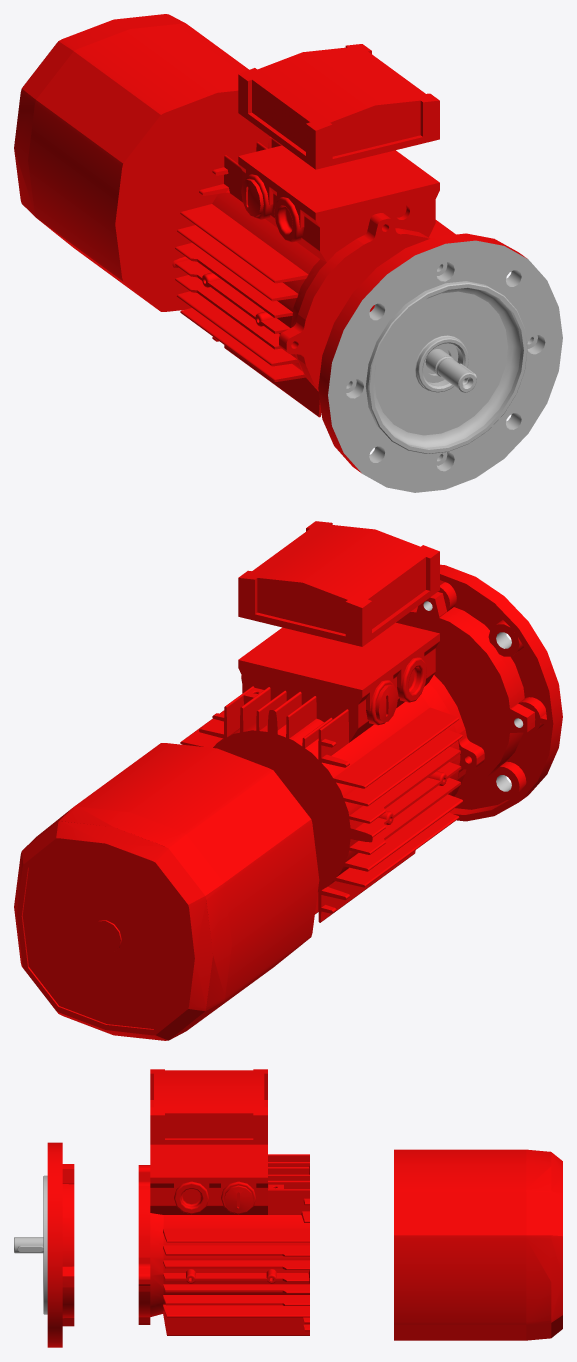
File: moteur.gltf
3 renders of one model, top to bottom at view 1: azimuth 30°, elevation 25°; view 2: azimuth 150°, elevation 25°; view 3: azimuth 270°, elevation 25°, orthographic. The views are drawn at different scales.
Parts seen in each view (by area): view 1: #corp, #ventil, #bloc, #borne; view 2: #ventil, #bloc, #corp, #borne; view 3: #ventil, #bloc, #borne, #corp.
Boxes of the visible parts, x1=… form: #corp: x1=318, y1=233, x2=562, y2=492; #ventil: x1=14, y1=14, x2=269, y2=311; #bloc: x1=172, y1=136, x2=455, y2=417; #borne: x1=238, y1=44, x2=439, y2=169; #ventil: x1=14, y1=743, x2=319, y2=1040; #bloc: x1=180, y1=622, x2=484, y2=922; #corp: x1=396, y1=564, x2=562, y2=821; #borne: x1=238, y1=521, x2=439, y2=646; #ventil: x1=394, y1=1149, x2=562, y2=1340; #bloc: x1=138, y1=1144, x2=309, y2=1335; #borne: x1=150, y1=1069, x2=267, y2=1144; #corp: x1=14, y1=1142, x2=74, y2=1347.
Size of the model in its own units: 1.4 by 1.9 by 3.73.
